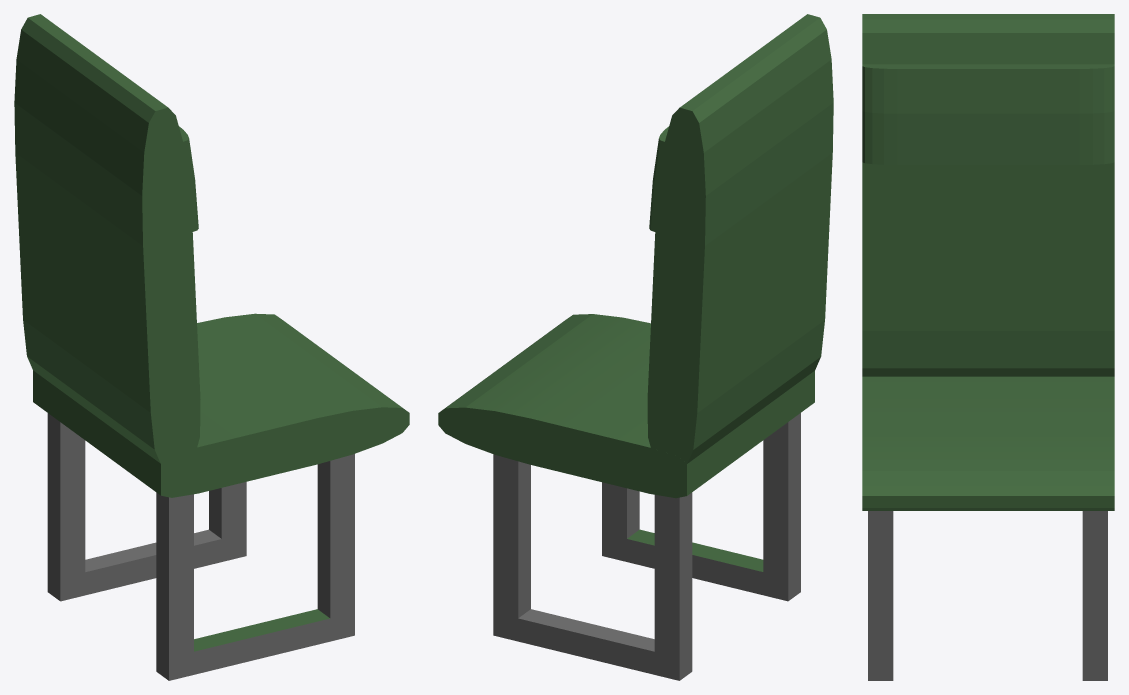
File: tafel stoel c.fbx
3 views of the same model, side by side, from view 1: azimuth 30°, elevation 25°; view 2: azimuth 150°, elevation 25°; view 3: azimuth 270°, elevation 25° (orthographic).
Parts seen in each view (by area): view 1: Cube.003; view 2: Cube.003; view 3: Cube.003.
Boxes of the visible parts, bbox=[...] form: Cube.003: bbox=[14, 14, 409, 680]; Cube.003: bbox=[438, 14, 833, 680]; Cube.003: bbox=[862, 14, 1114, 680].
Size of the model in its own units: 60.41 by 124 by 50.01.
